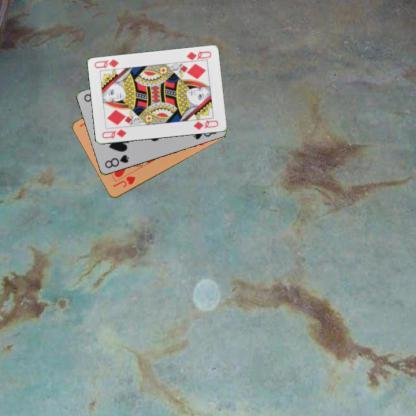8s: (102, 152, 130, 170)
Jh: (110, 173, 136, 189)
Qd: (182, 48, 212, 63), (98, 126, 127, 140)
